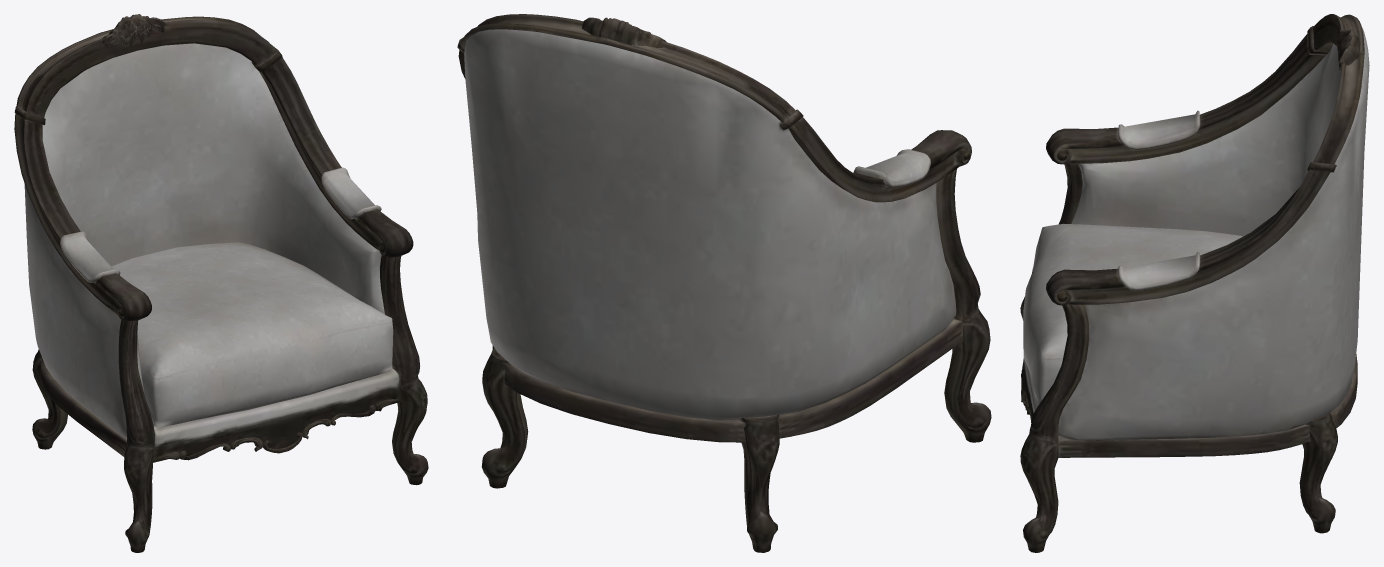
The model's file is ArmChair_01.glb.
3 renders of one model, left to right at view 1: azimuth 30°, elevation 25°; view 2: azimuth 150°, elevation 25°; view 3: azimuth 270°, elevation 25°, orthographic. The views are drawn at different scales.
Visible parts, largest first — view 1: ArmChair_01; view 2: ArmChair_01; view 3: ArmChair_01.
Part boxes in pixels (x1,y1,x2,y2): ArmChair_01: [14, 14, 428, 552]; ArmChair_01: [457, 14, 991, 552]; ArmChair_01: [1020, 14, 1369, 552].
Size of the model in its own units: 0.8484 by 1.06 by 0.7658.
Materials: 1 (1 with a texture image).
